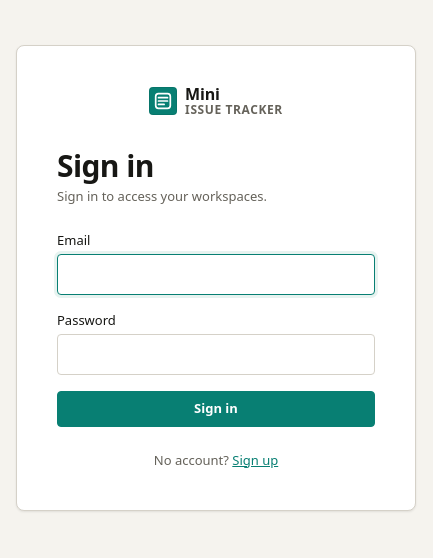
Scenario: LoginPage › displays an error when sign-in fails
Type "a@b.com" into the field labelled "Email" at (216, 274), box [57, 254, 375, 295]
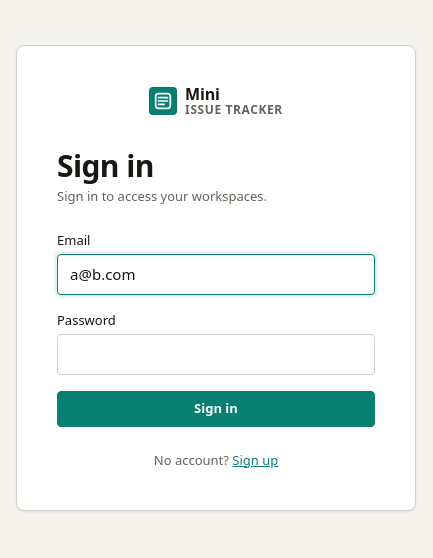
Type "wrong" into the password field labelled "Password" at (216, 354), box [57, 334, 375, 375]
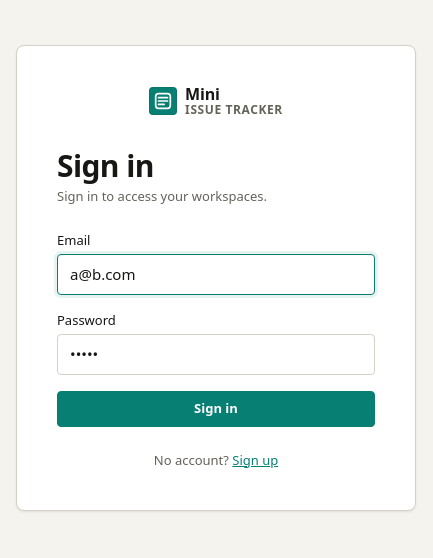
Click the button "Sign in" at (216, 409), box [57, 391, 375, 427]
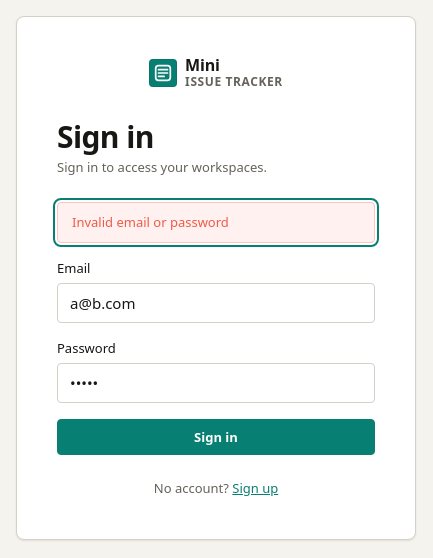
Now the text "Invalid email or password" is shown, box [57, 202, 375, 243]
